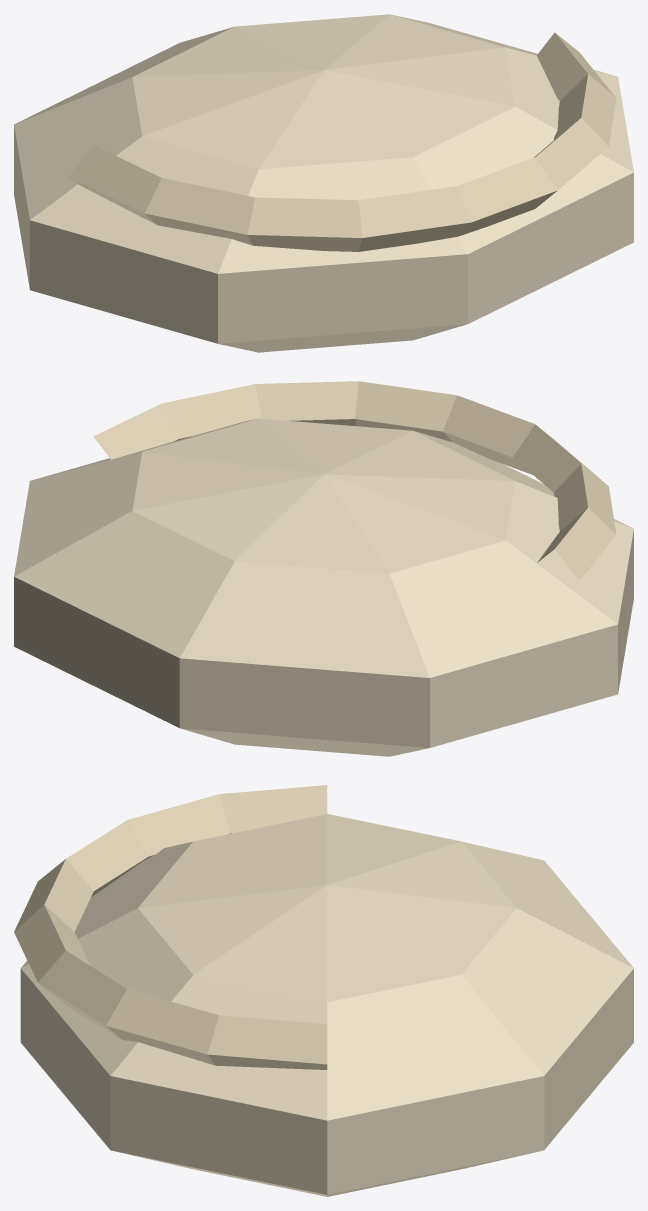
The model's file is swamp_shell.glb.
The picture shows the model from 3 angles, top to bottom: view 1: azimuth 30°, elevation 25°; view 2: azimuth 150°, elevation 25°; view 3: azimuth 270°, elevation 25°; orthographic projection. The views are drawn at different scales.
Visible parts, largest first — view 1: n1, n3; view 2: n1, n3; view 3: n1, n3.
Part boxes in pixels (left/top/right/bottom): n1: left=14, top=14, right=633, bottom=352; n3: left=68, top=32, right=616, bottom=251; n1: left=14, top=418, right=633, bottom=756; n3: left=93, top=381, right=616, bottom=580; n1: left=20, top=814, right=633, bottom=1196; n3: left=14, top=785, right=327, bottom=1069.
Size of the model in its own units: 1.07 by 0.394 by 0.92.
